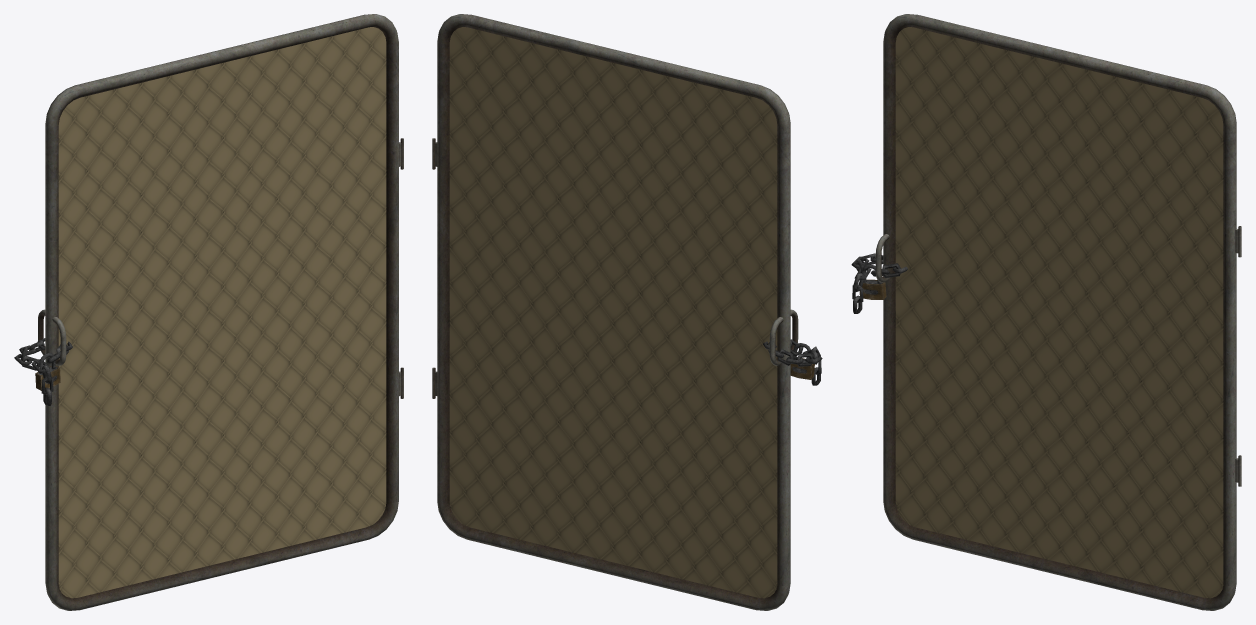
File: swingdoor_fencing_round_locked.dae
The picture shows the model from 3 angles, left to right: view 1: azimuth 30°, elevation 25°; view 2: azimuth 150°, elevation 25°; view 3: azimuth 330°, elevation 25°; orthographic projection.
Visible parts, largest first — view 1: door_net, door_frame, polySurface14; view 2: door_net, door_frame, polySurface14; view 3: door_net, door_frame, padlock, polySurface14.
Part boxes in pixels (box(x1,y1,x2,y2)): door_net: box(58, 27, 386, 598); door_frame: box(38, 14, 401, 610); polySurface14: box(14, 338, 72, 365); door_net: box(449, 27, 777, 598); door_frame: box(435, 14, 798, 610); polySurface14: box(763, 339, 822, 366); door_net: box(895, 27, 1223, 598); door_frame: box(875, 14, 1238, 610); padlock: box(859, 264, 886, 299); polySurface14: box(851, 253, 907, 278).
Bounding box in the file's own units: 240 × 311 × 32.75.
